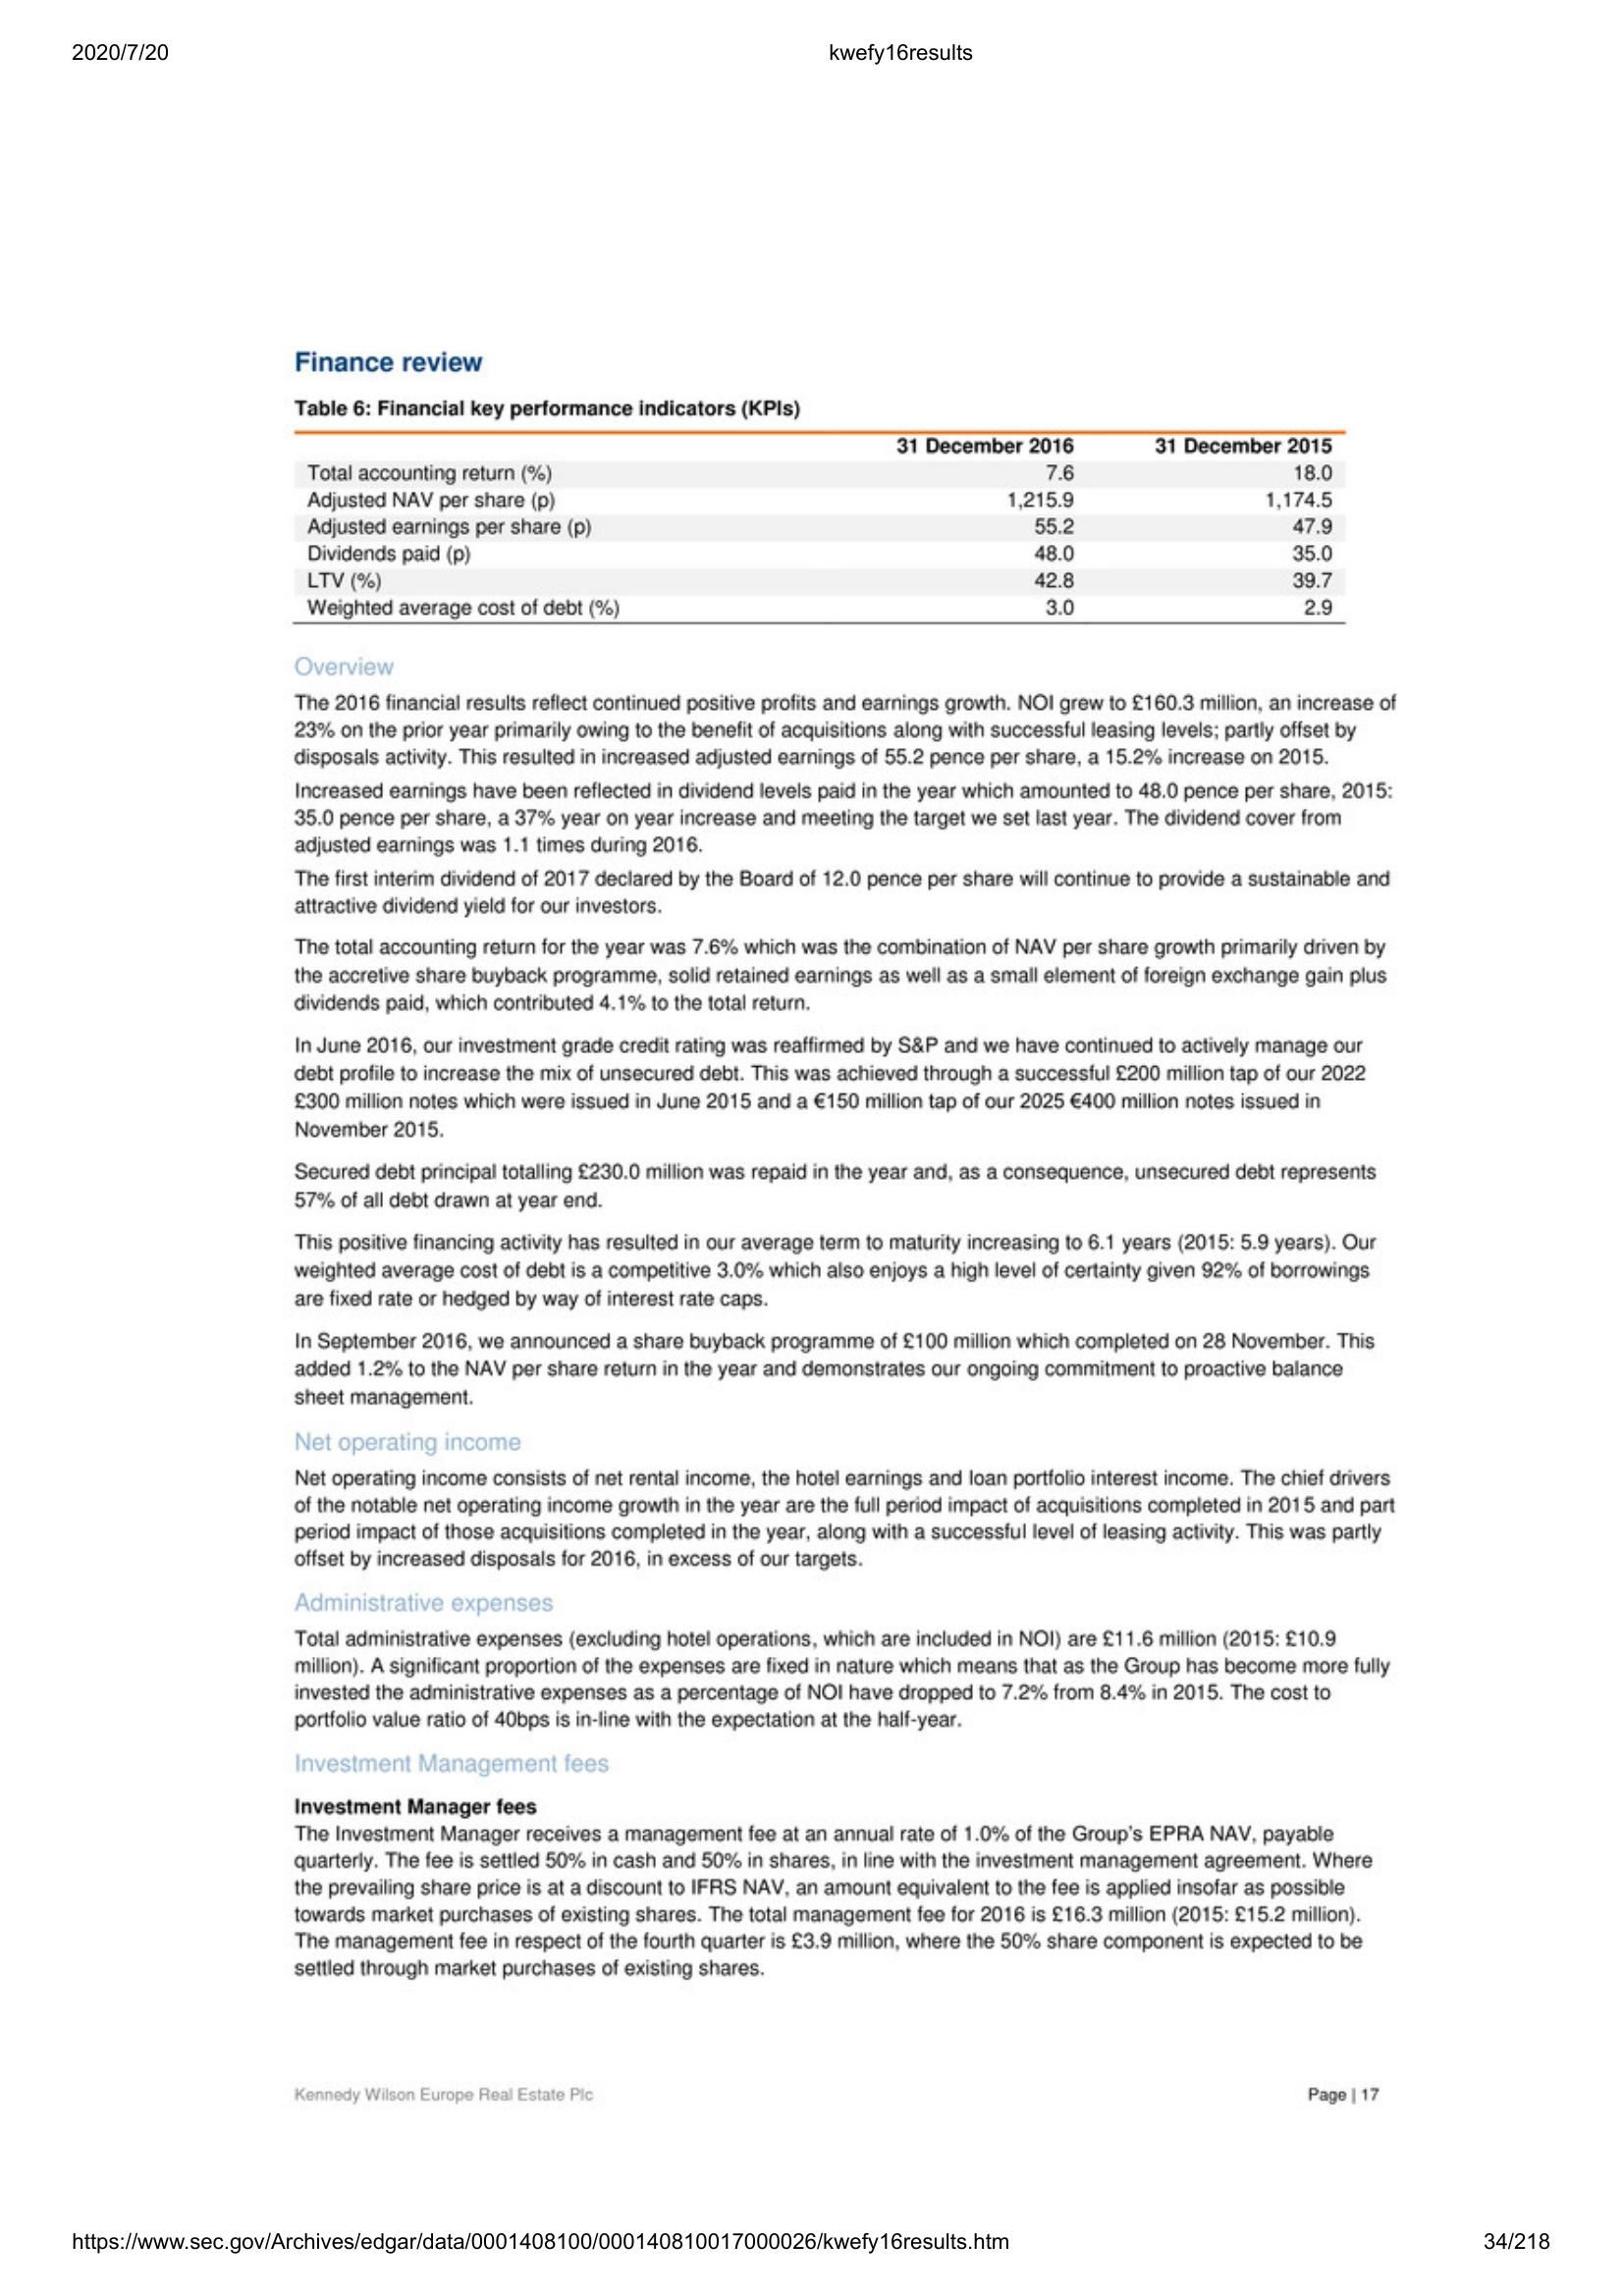table: (292, 423, 1358, 628)
